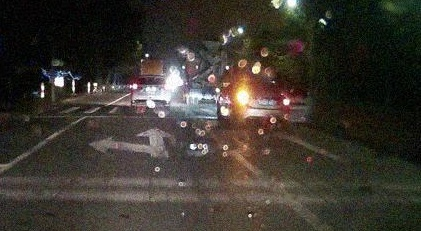L_light: (237, 94, 255, 103), (132, 85, 143, 90)
R_light: (273, 98, 288, 105), (159, 85, 169, 90)
T_light: (256, 83, 266, 85), (148, 77, 155, 79)
night-left: (236, 81, 289, 127)
night-no: (131, 76, 171, 109)
